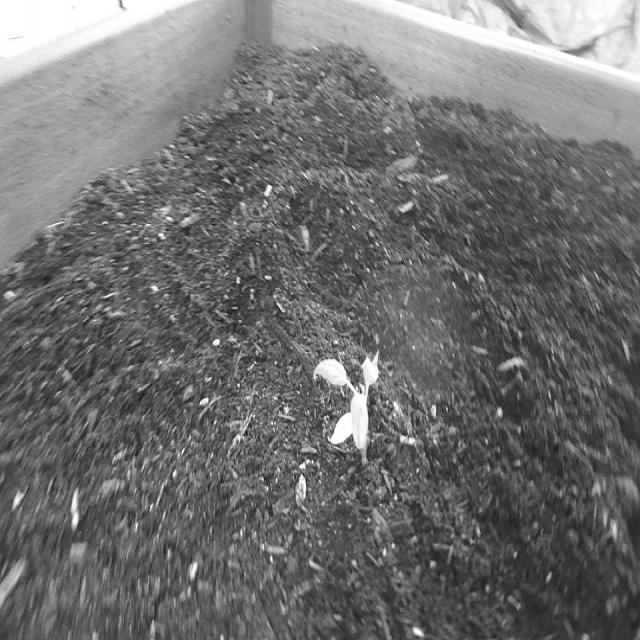Healthy: (312, 347, 383, 454)
